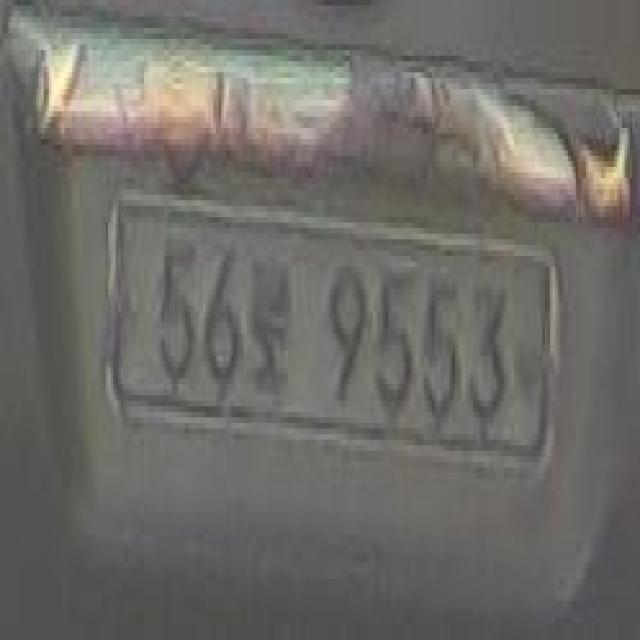illegal_plate: (102, 188, 558, 494)
